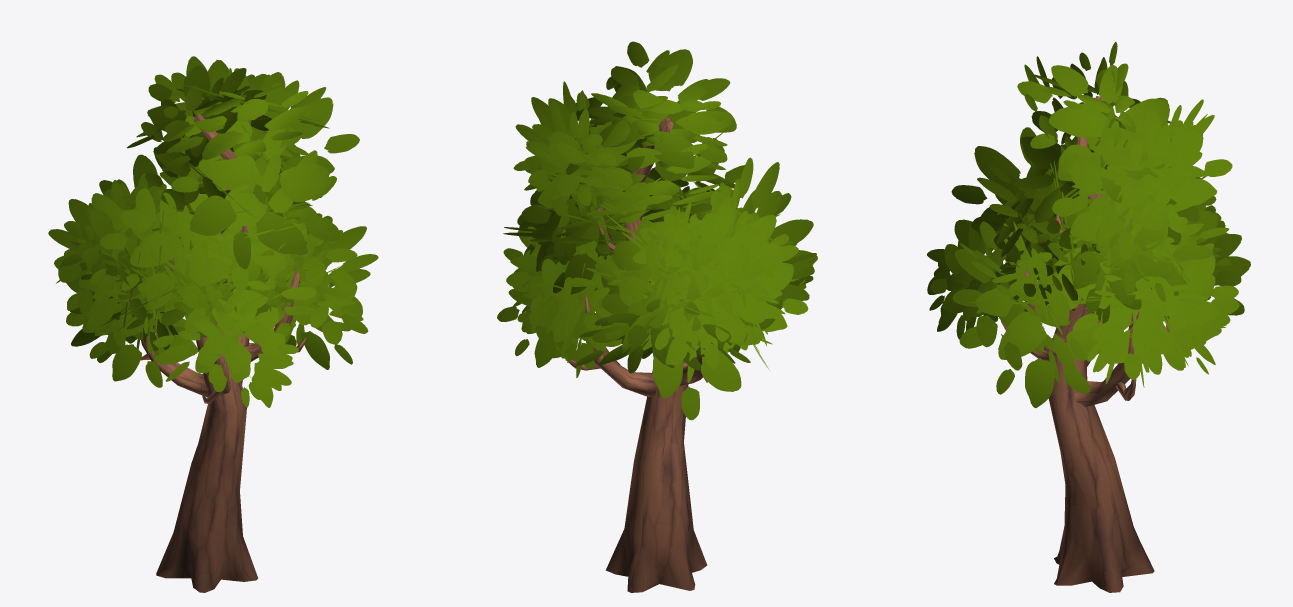
The model's file is tree_free_model_b_b_lo.glb.
3 views of the same model, side by side, from view 1: azimuth 30°, elevation 25°; view 2: azimuth 150°, elevation 25°; view 3: azimuth 270°, elevation 25° (orthographic). The views are drawn at different scales.
Visible parts, largest first — view 1: CommonTree_2; view 2: CommonTree_2; view 3: CommonTree_2.
Part boxes in pixels (<box>): CommonTree_2: <box>48,56,378,592</box>; CommonTree_2: <box>497,41,817,592</box>; CommonTree_2: <box>927,42,1250,592</box>.
Size of the model in its own units: 5.4 by 7.85 by 5.08.
2 materials, 2 textured.
